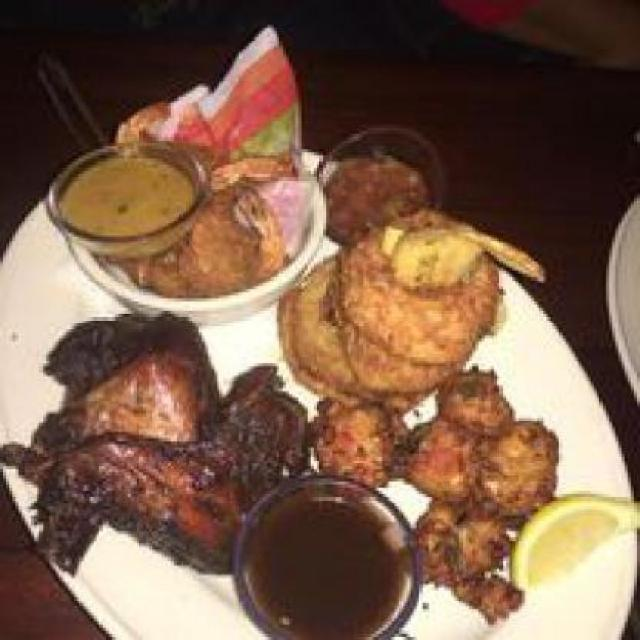chicken wings: (10, 137, 282, 295)
onion rings: (273, 212, 522, 394)
